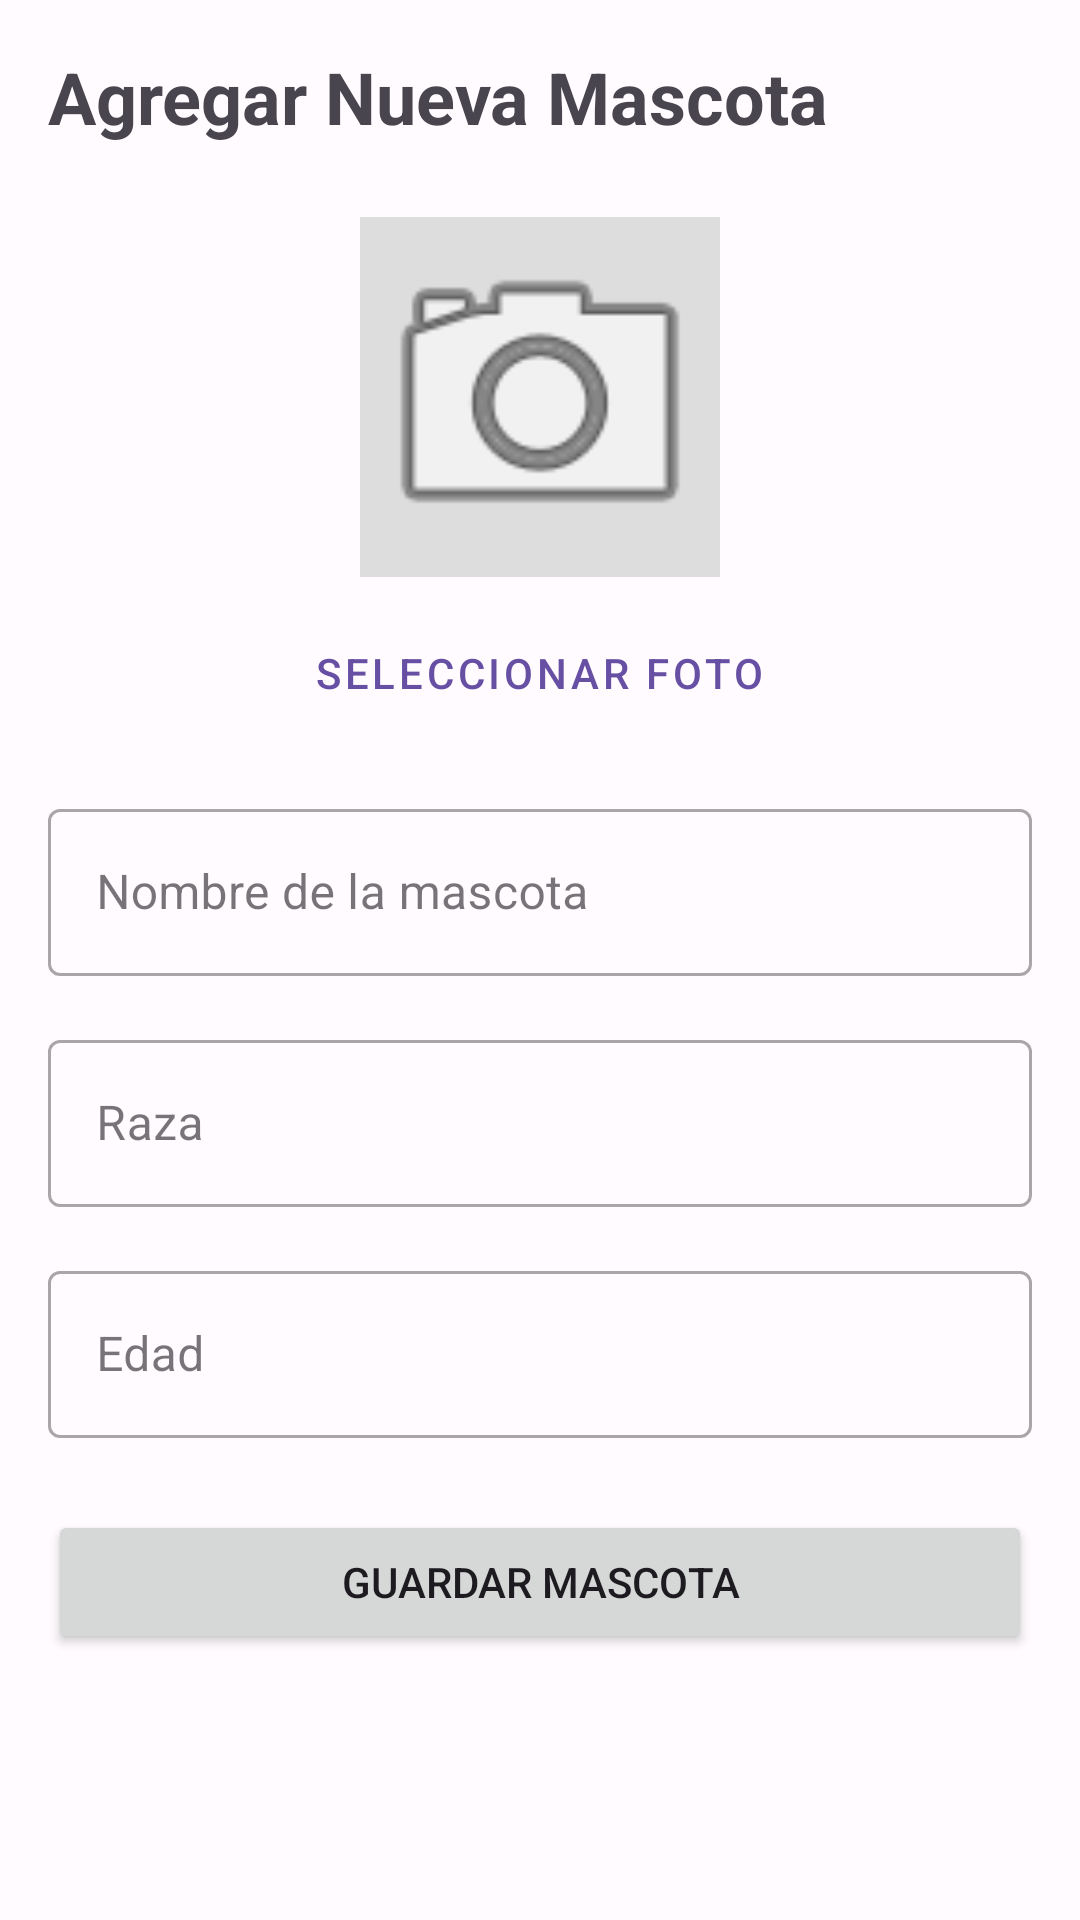

Screen size 1080*1920. Icon name, then its box in pixels as (x1, y1, x2, y2):
camera: (360, 217, 720, 577)
